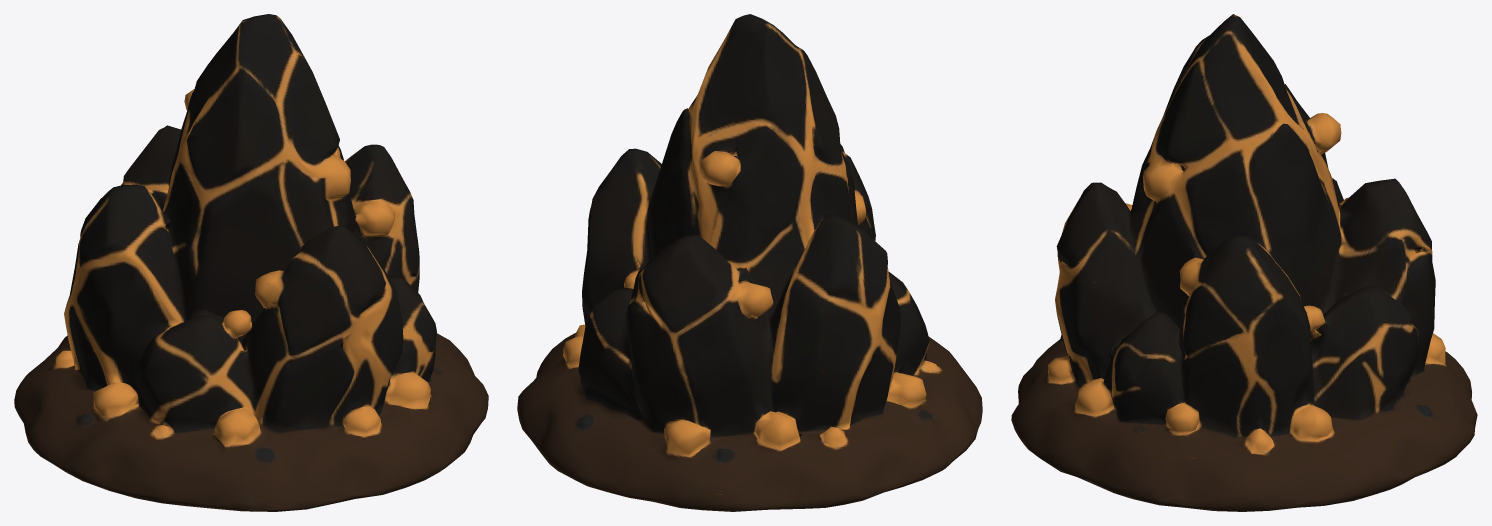
The model's file is gold-node.glb.
3 views of the same model, side by side, from view 1: azimuth 30°, elevation 25°; view 2: azimuth 150°, elevation 25°; view 3: azimuth 270°, elevation 25° (orthographic).
Visible parts, largest first — view 1: world; view 2: world; view 3: world.
Boxes of the visible parts, x1,y1,x2,y2 form: world: (14, 14, 488, 511); world: (517, 14, 982, 511); world: (1011, 14, 1477, 511).
Size of the model in its own units: 0.9998 by 0.9345 by 0.9989.
1 material, 1 textured.
